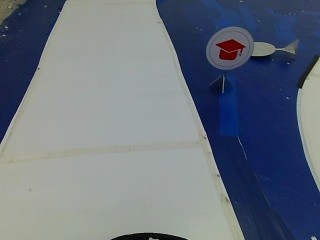school: (203, 25, 253, 70)
